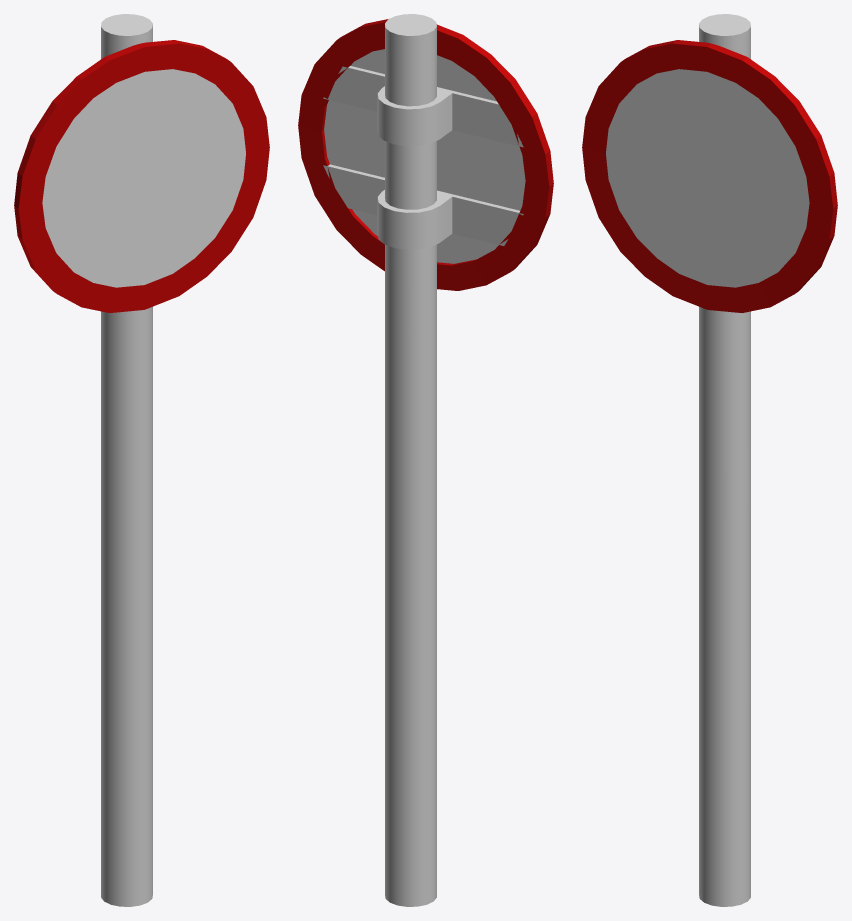
The model's file is Señal circular.fbx.
3 renders of one model, left to right at view 1: azimuth 30°, elevation 25°; view 2: azimuth 150°, elevation 25°; view 3: azimuth 330°, elevation 25°, orthographic.
Visible parts, largest first — view 1: Señal circ completa; view 2: Señal circ completa; view 3: Señal circ completa.
Boxes of the visible parts, x1,y1,x2,y2 form: Señal circ completa: (14, 14, 269, 906); Señal circ completa: (298, 14, 553, 906); Señal circ completa: (582, 14, 837, 906).
Bounding box in the file's own units: 62.1 × 206 × 14.73.
